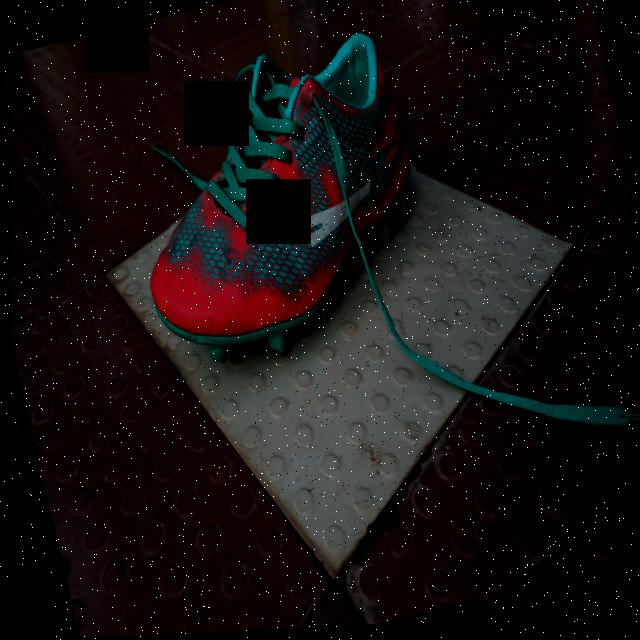shoe: (100, 28, 450, 388)
